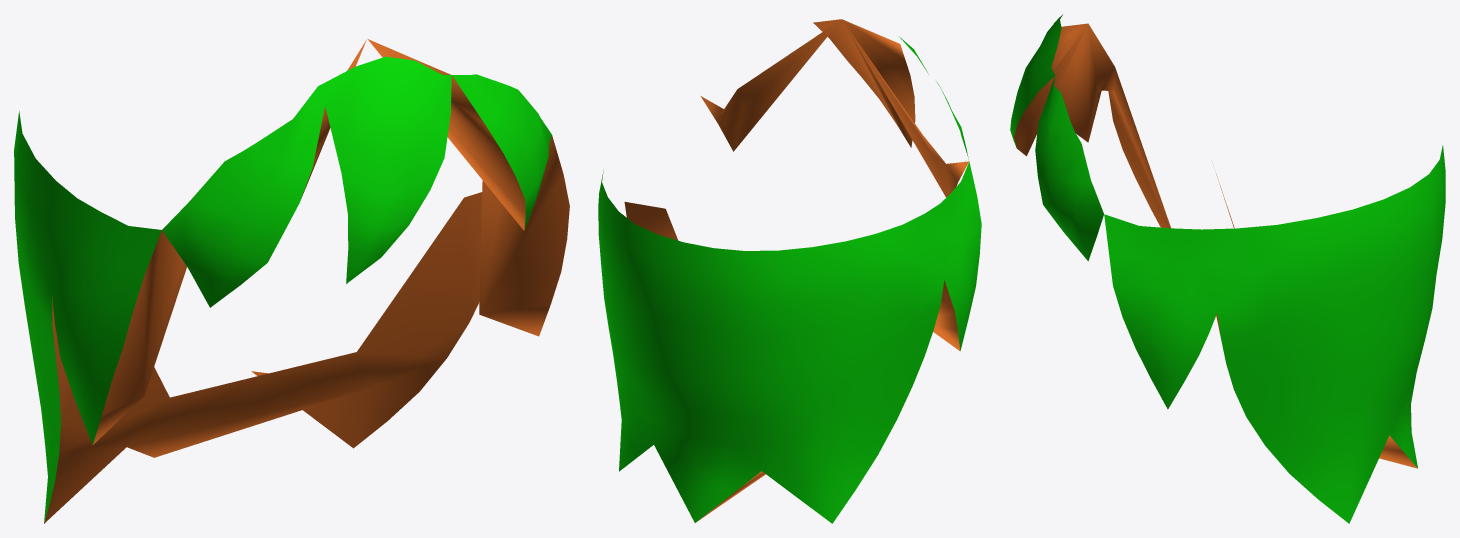
File: Hair2_60.glb
3 views of the same model, side by side, from view 1: azimuth 30°, elevation 25°; view 2: azimuth 150°, elevation 25°; view 3: azimuth 270°, elevation 25° (orthographic). The views are drawn at different scales.
Bounding box in the file's own units: 58.86 × 68.4 × 60.63.
